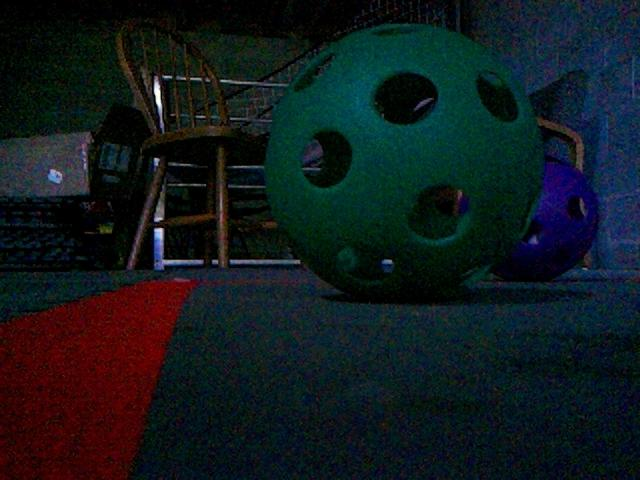Green: (265, 25, 546, 301)
Purple: (485, 159, 602, 283)
